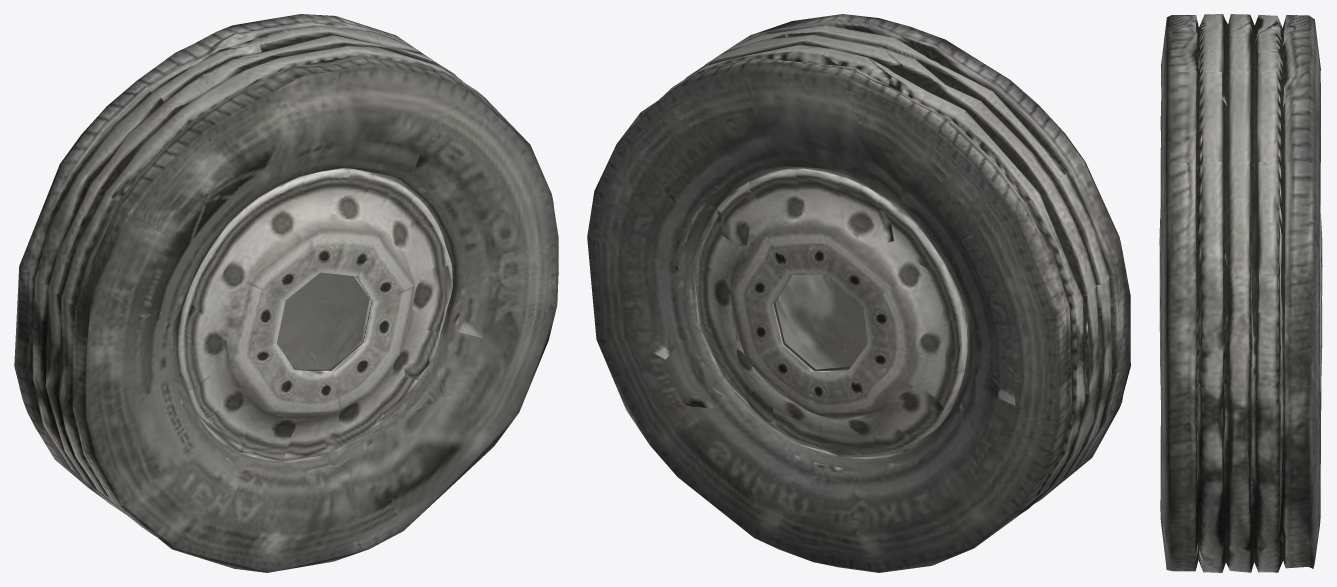
Rendered from wheel_truck.glb.
The picture shows the model from 3 angles, left to right: view 1: azimuth 30°, elevation 25°; view 2: azimuth 150°, elevation 25°; view 3: azimuth 270°, elevation 25°; orthographic projection. The views are drawn at different scales.
Visible parts, largest first — view 1: wheel_truck; view 2: wheel_truck; view 3: wheel_truck.
Boxes of the visible parts, x1,y1,x2,y2 form: wheel_truck: (14,14,558,572); wheel_truck: (587,14,1130,572); wheel_truck: (1159,14,1322,572).
Size of the model in its own units: 0.9995 by 1 by 0.293.
Materials: 1 (1 with a texture image).
